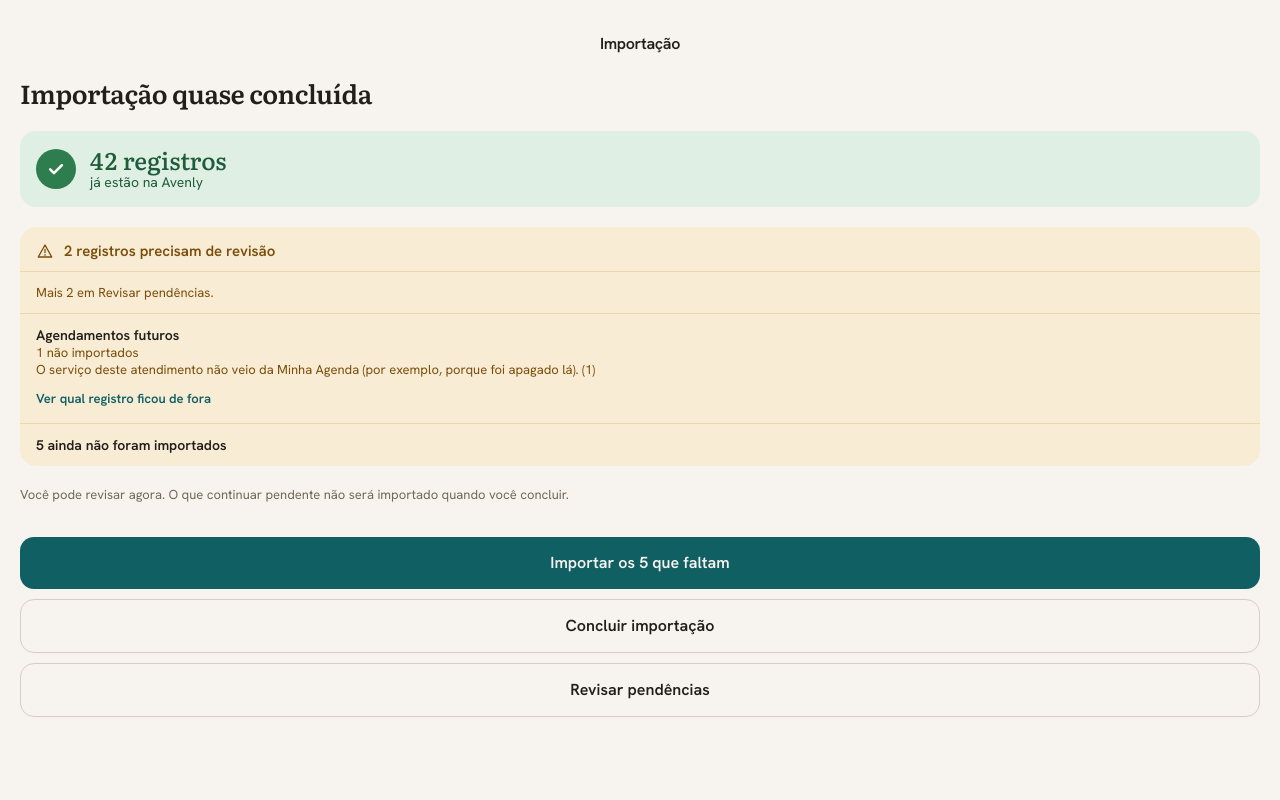
PARTIAL é estado legítimo › os itens que esperam decisão são alcançáveis a partir do que faltou
Click the button "Revisar pendências": {"x": 640, "y": 690} [20,663,1260,717]
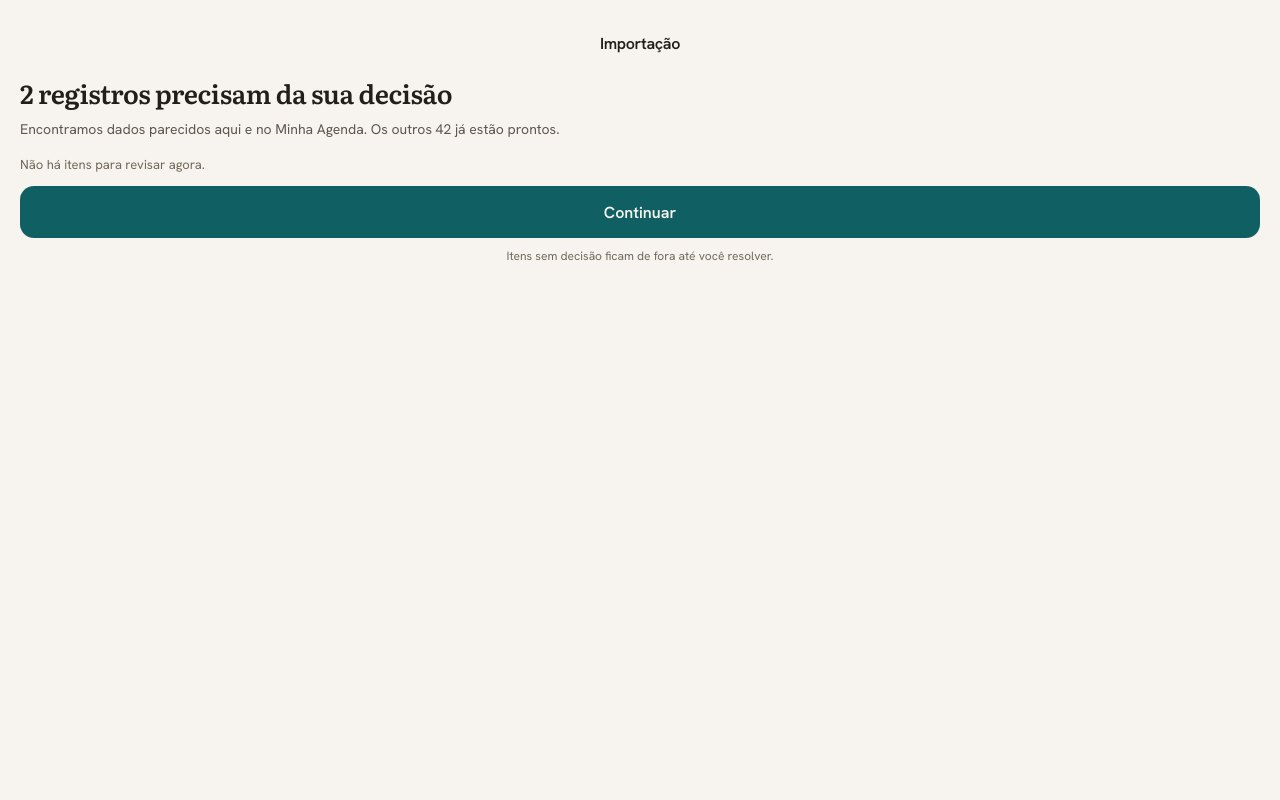
Check: the button "Continuar" is shown, box [20,186,1260,238]
Check: the heading "2 registros precisam da sua decisão" is shown, box [20,73,452,112]
Check: the text "Encontramos dados parecidos aqui e no Minha Agenda. Os outros 42 já estão prontos." is shown, box [20,120,560,138]
